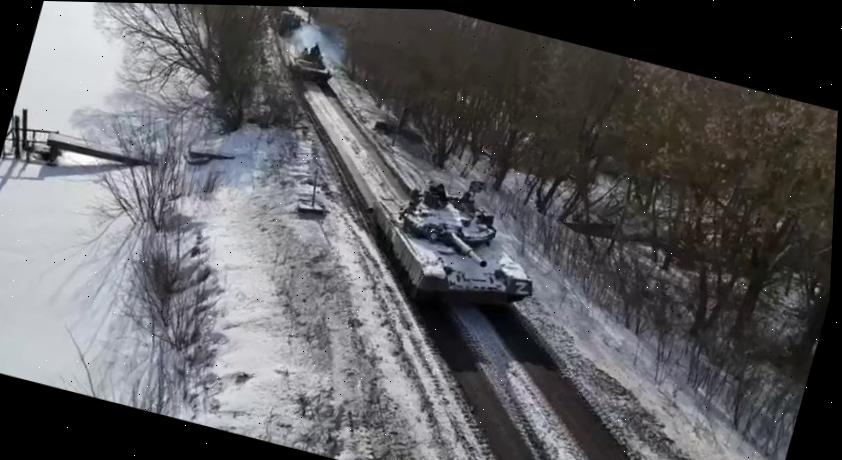tank: (348, 165, 559, 327), (280, 43, 336, 84)
truck: (258, 6, 306, 41)
